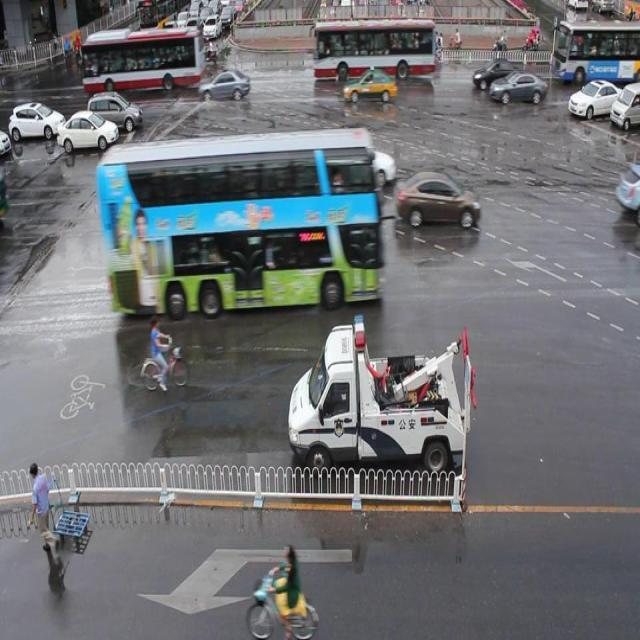car: (99, 135, 381, 325), (289, 310, 474, 477), (307, 15, 443, 83), (68, 33, 204, 96), (551, 15, 640, 81), (396, 169, 484, 232), (61, 110, 117, 154), (6, 103, 63, 145), (567, 82, 620, 127), (345, 67, 400, 108), (85, 96, 142, 135), (200, 65, 253, 106), (491, 72, 547, 108), (471, 57, 518, 86)
